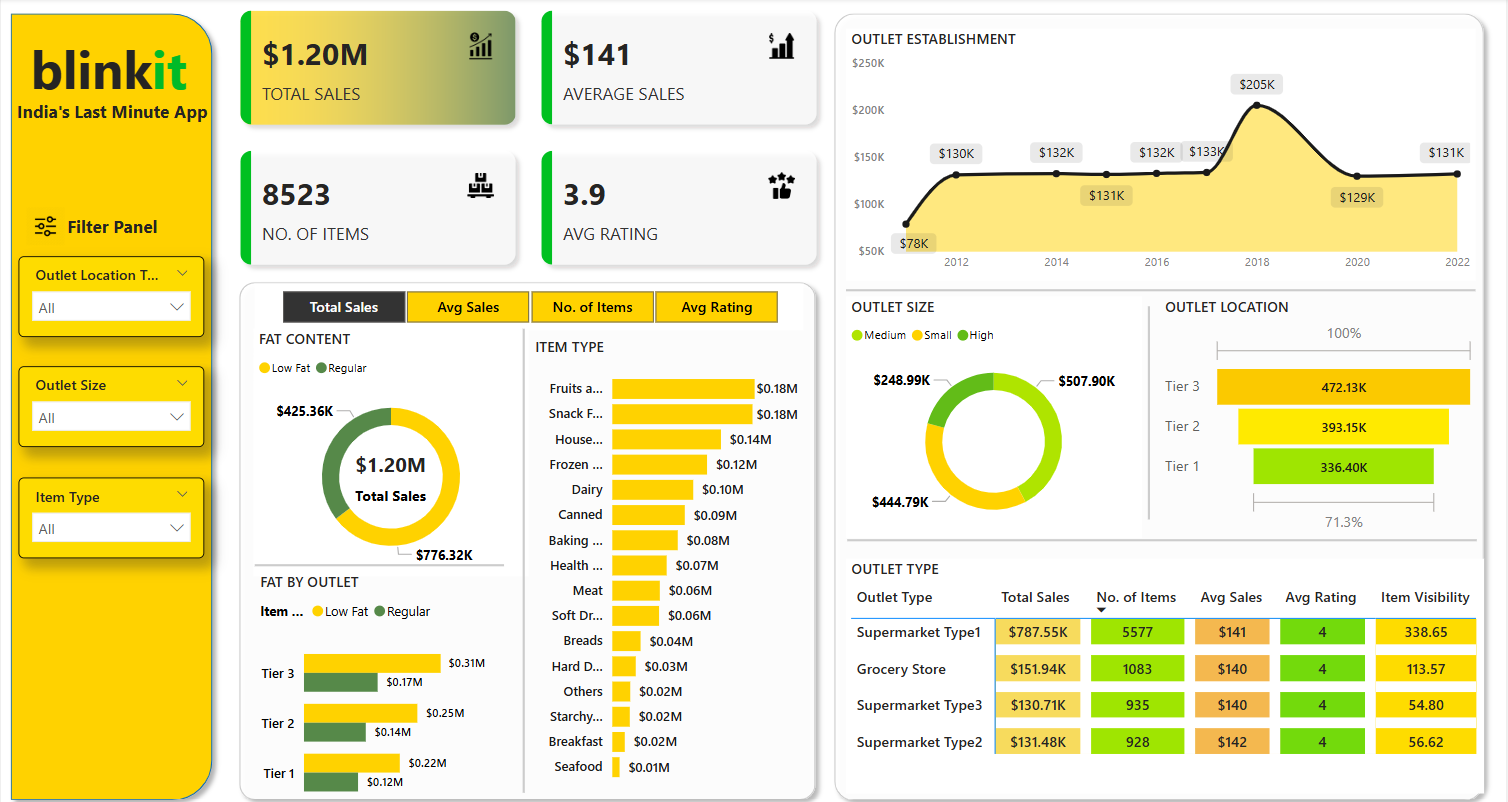

This screenshot's page, from the dashboard's own definition file:
{"tool":"powerbi","page":{"name":"Page 1","canvas":[1400,800],"ordinal":0},"visuals":[{"type":"shape","box":[0,25.5,205.6,750.4],"z":0},{"type":"textbox","box":[13.5,48,172.6,91.6],"z":1000},{"type":"textbox","box":[0,109.6,207.1,40.5],"z":2000},{"type":"cardVisual","fields":{"Data":["BlinkIT Grocery Data.Total Sales","BlinkIT Grocery Data.Avg Sales","BlinkIT Grocery Data.No. of Items","BlinkIT Grocery Data.Avg Rating"]},"box":[205.6,15,570.3,270.2],"z":3000},{"type":"shape","box":[213.1,276.2,553.8,499.8],"z":4000},{"type":"donutChart","title":"FAT CONTENT","fields":{"Y":["BlinkIT Grocery Data.Total Sales"],"Category":["BlinkIT Grocery Data.Item Fat Content"]},"box":[234.6,328.4,256,230.6],"z":5000},{"type":"slicer","fields":{"Values":["Metrics.Metrics"]},"box":[235.9,285.5,510.7,42.9],"z":6000},{"type":"cardVisual","fields":{"Data":["BlinkIT Grocery Data.Total Sales"]},"box":[311,424.9,104.6,79.1],"z":7000},{"type":"clusteredBarChart","title":"FAT BY OUTLET","fields":{"Series":["BlinkIT Grocery Data.Item Fat Content"],"Category":["BlinkIT Grocery Data.Outlet Location Type"],"Y":["BlinkIT Grocery Data.Total Sales"]},"box":[235.9,553.6,219.8,230.6],"z":8000},{"type":"shape","box":[235.9,541.6,231.9,12.1],"z":9000},{"type":"shape","box":[479.9,328.4,12.1,431.6],"z":10000},{"type":"barChart","title":"ITEM TYPE","fields":{"Y":["BlinkIT Grocery Data.Total Sales"],"Category":["BlinkIT Grocery Data.Item Type"]},"box":[492,335.1,254.7,424.9],"z":11000},{"type":"shape","box":[766.8,25.5,622,750.7],"z":12000},{"type":"lineChart","title":"OUTLET ESTABLISHMENT","fields":{"Category":["BlinkIT Grocery Data.Outlet Establishment Year"],"Y":["BlinkIT Grocery Data.Total Sales"]},"box":[785.5,48.3,585.8,234.6],"z":13000},{"type":"shape","box":[785.5,285.5,585.8,12.1],"z":14000},{"type":"donutChart","title":"OUTLET SIZE","fields":{"Y":["BlinkIT Grocery Data.Total Sales"],"Category":["BlinkIT Grocery Data.Outlet Size"]},"box":[785.5,297.6,275,225],"z":15000},{"type":"shape","box":[1060.3,307,14.7,198.4],"z":16000},{"type":"funnel","title":"OUTLET LOCATION","fields":{"Category":["BlinkIT Grocery Data.Outlet Location Type"],"Y":["Sum(BlinkIT Grocery Data.Sales)"]},"box":[1077.8,297.6,298.9,225.2],"z":17000},{"type":"shape","box":[786.9,518.8,585.8,12.1],"z":18000},{"type":"pivotTable","title":"OUTLET TYPE","fields":{"Rows":["BlinkIT Grocery Data.Outlet Type"],"Values":["BlinkIT Grocery Data.Total Sales","BlinkIT Grocery Data.No. of Items","BlinkIT Grocery Data.Avg Sales","BlinkIT Grocery Data.Avg Rating","Sum(BlinkIT Grocery Data.Item Visibility)"]},"box":[785.5,541.6,593.8,218.5],"z":19000},{"type":"slicer","fields":{"Values":["BlinkIT Grocery Data.Outlet Location Type"]},"box":[16.1,260.1,172.9,75.1],"z":20000},{"type":"slicer","fields":{"Values":["BlinkIT Grocery Data.Outlet Size"]},"box":[16.1,363.3,172.9,75.1],"z":21000},{"type":"slicer","fields":{"Values":["BlinkIT Grocery Data.Item Type"]},"box":[16.1,466.5,172.9,75.1],"z":22000},{"type":"textbox","box":[46.9,215.8,113.9,34.9],"z":23000},{"type":"image","box":[18.8,207.8,45.6,49.6],"z":24000}]}

Visuals, with their boxes on the page's 1400x800 design canvas (x1, y1, x2, y2). These are canvas units, not pixel positions in the 1508x802 screenshot, which may show the page scaled, cropped or inside an application window:
shape: l=0, t=26, r=206, b=776
textbox: l=14, t=48, r=186, b=140
textbox: l=0, t=110, r=207, b=150
cardVisual - BlinkIT Grocery Data.Total Sales x BlinkIT Grocery Data.Avg Sales: l=206, t=15, r=776, b=285
shape: l=213, t=276, r=767, b=776
"FAT CONTENT" donutChart: l=235, t=328, r=491, b=559
slicer - Metrics.Metrics: l=236, t=286, r=747, b=328
cardVisual - BlinkIT Grocery Data.Total Sales: l=311, t=425, r=416, b=504
"FAT BY OUTLET" clusteredBarChart: l=236, t=554, r=456, b=784
shape: l=236, t=542, r=468, b=554
shape: l=480, t=328, r=492, b=760
"ITEM TYPE" barChart: l=492, t=335, r=747, b=760
shape: l=767, t=26, r=1389, b=776
"OUTLET ESTABLISHMENT" lineChart: l=786, t=48, r=1371, b=283
shape: l=786, t=286, r=1371, b=298
"OUTLET SIZE" donutChart: l=786, t=298, r=1060, b=523
shape: l=1060, t=307, r=1075, b=505
"OUTLET LOCATION" funnel: l=1078, t=298, r=1377, b=523
shape: l=787, t=519, r=1373, b=531
"OUTLET TYPE" pivotTable: l=786, t=542, r=1379, b=760
slicer - BlinkIT Grocery Data.Outlet Location Type: l=16, t=260, r=189, b=335
slicer - BlinkIT Grocery Data.Outlet Size: l=16, t=363, r=189, b=438
slicer - BlinkIT Grocery Data.Item Type: l=16, t=466, r=189, b=542
textbox: l=47, t=216, r=161, b=251
image: l=19, t=208, r=64, b=257
